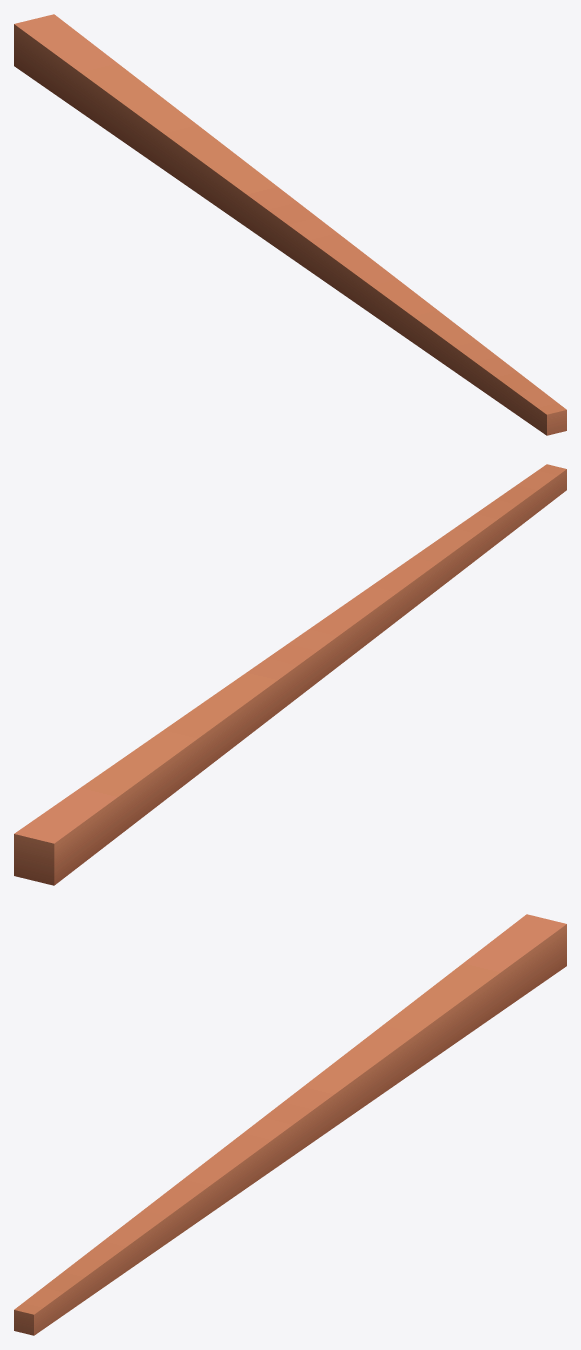
File: chopstick.glb
3 renders of one model, top to bottom at view 1: azimuth 30°, elevation 25°; view 2: azimuth 150°, elevation 25°; view 3: azimuth 330°, elevation 25°, orthographic.
Parts seen in each view (by area): view 1: chopstick; view 2: chopstick; view 3: chopstick.
Boxes of the visible parts, x1,y1,x2,y2 form: chopstick: (14,14,566,435); chopstick: (14,464,566,885); chopstick: (14,914,566,1335).
Size of the model in its own units: 0.02 by 0.02 by 0.45.
Materials: 1 (1 with a texture image).
